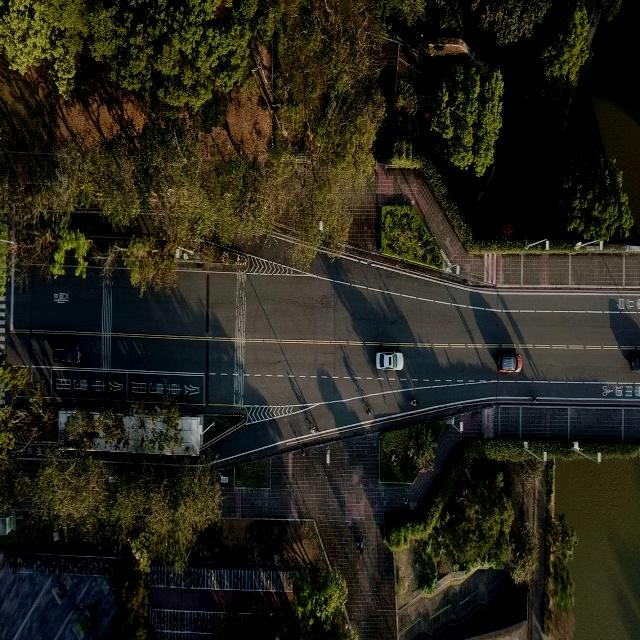car: (496, 351, 522, 374), (52, 344, 80, 365), (375, 351, 403, 371)
